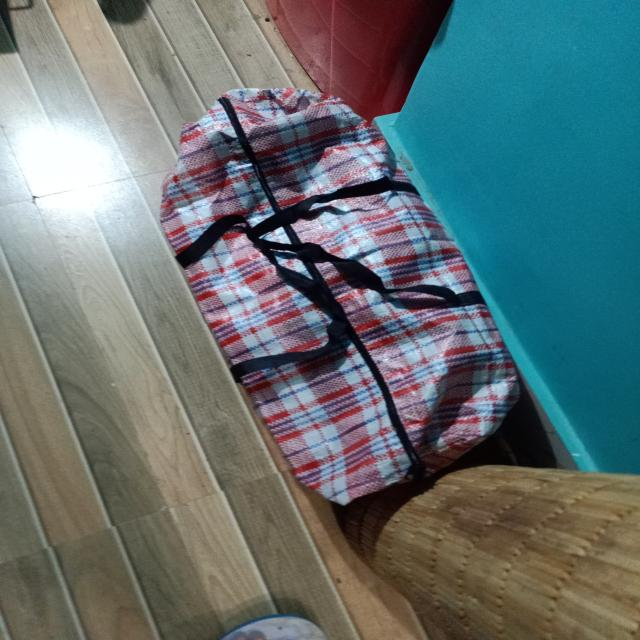suitcaserotation: (152, 82, 528, 510)
